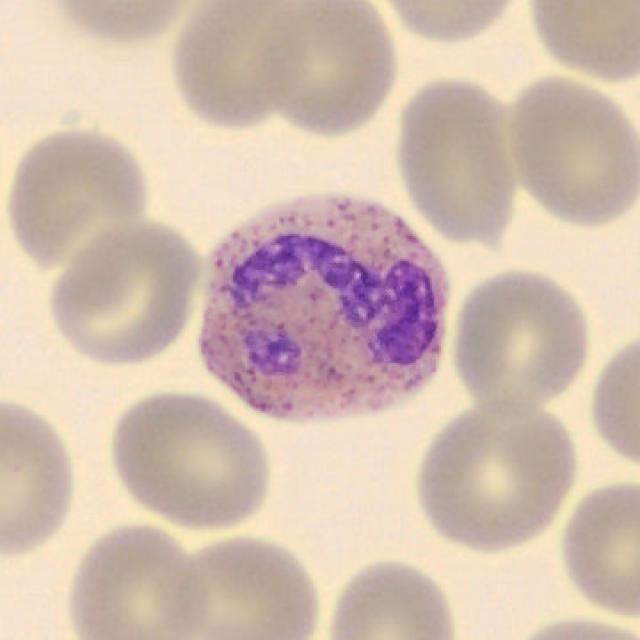Neutrofilo segmentado: (197, 195, 452, 424)
